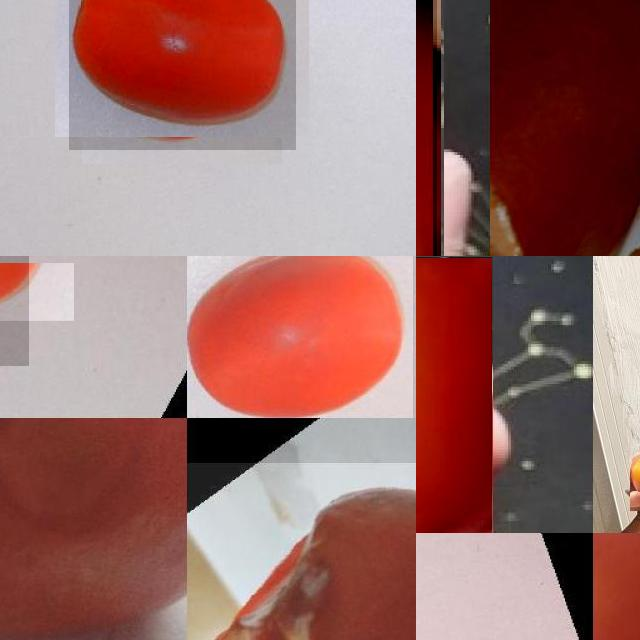0: (416, 257, 492, 533)
1: (490, 0, 640, 256)
Fresh Tomato: (187, 256, 413, 418), (69, 0, 296, 150), (0, 256, 29, 366)
Rotten Tomato: (0, 418, 187, 640), (187, 462, 416, 640)
